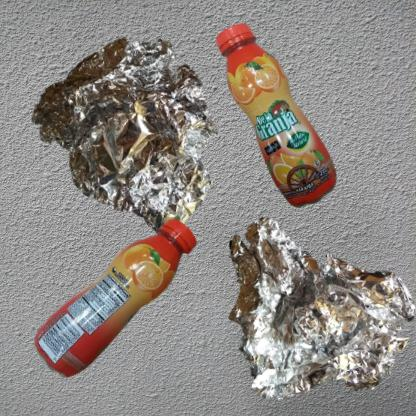aluminio: (10, 10, 256, 253), (213, 213, 416, 416)
botella: (10, 213, 287, 416), (213, 10, 359, 246)
